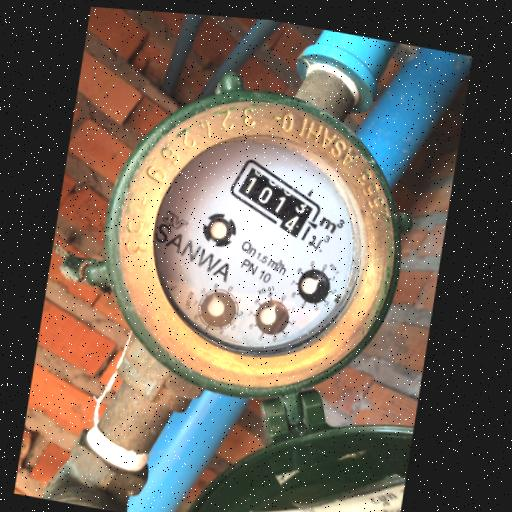0: (250, 174, 282, 212)
1: (266, 184, 297, 223), (237, 165, 267, 203)
3: (277, 195, 314, 240)
border_water_meter_number: (219, 154, 332, 248)
